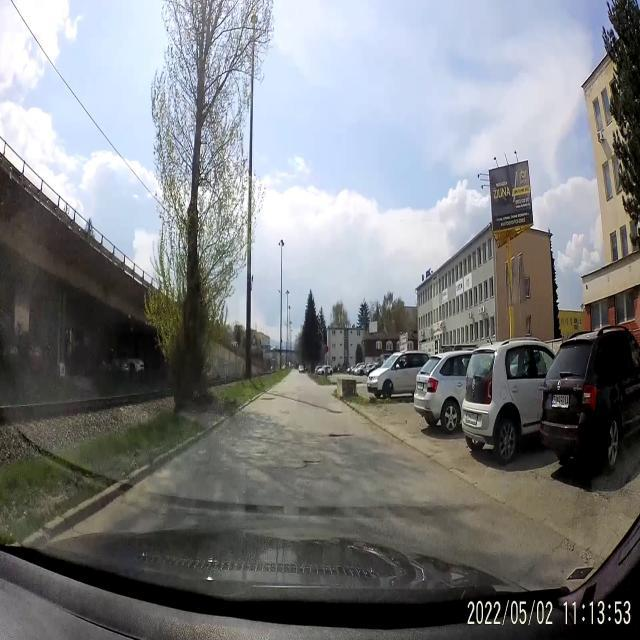Pothole: (298, 450, 322, 474), (326, 428, 356, 443)
